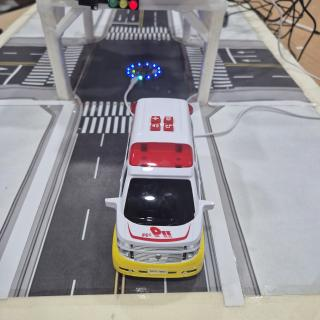Ambulance: (105, 98, 214, 278)
